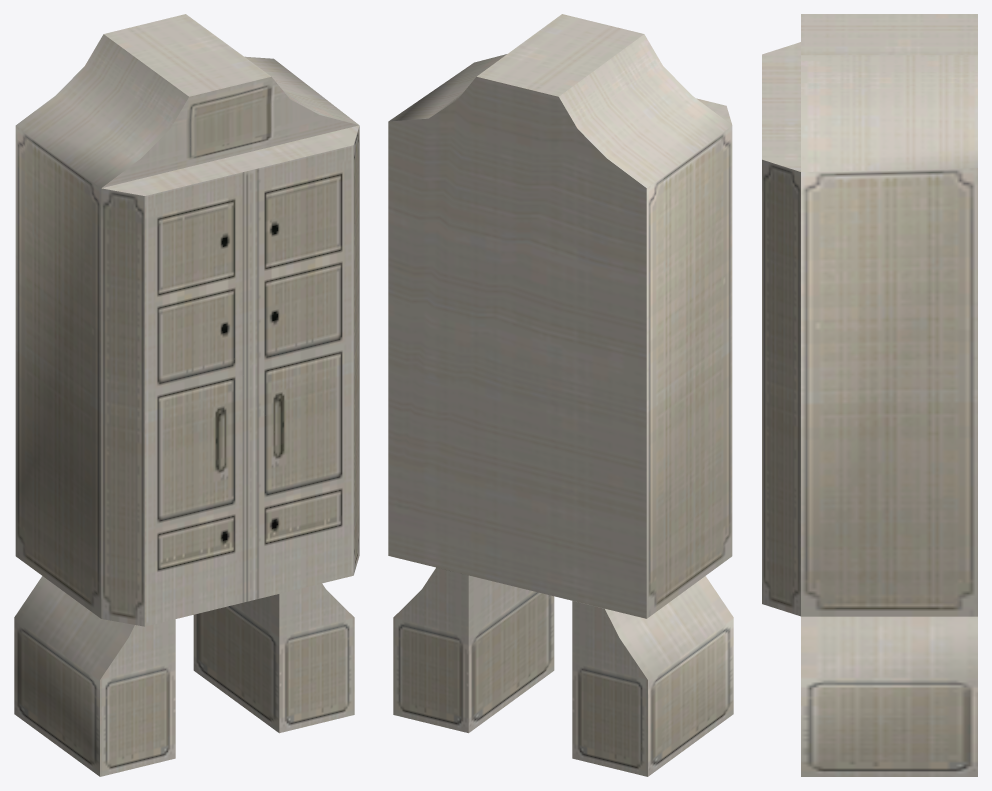
File: frn_all_eleg_cabinet_s01_l1.fbx
3 views of the same model, side by side, from view 1: azimuth 30°, elevation 25°; view 2: azimuth 150°, elevation 25°; view 3: azimuth 270°, elevation 25° (orthographic). The views are drawn at different scales.
Parts seen in each view (by area): view 1: mesh_node; view 2: mesh_node; view 3: mesh_node.
Part boxes in pixels (x1,y1,x2,y2): mesh_node: (14,14,359,776); mesh_node: (388,14,733,776); mesh_node: (762,14,977,776).
Bounding box in the file's own units: 0.7423 × 1.8 × 0.5181.
